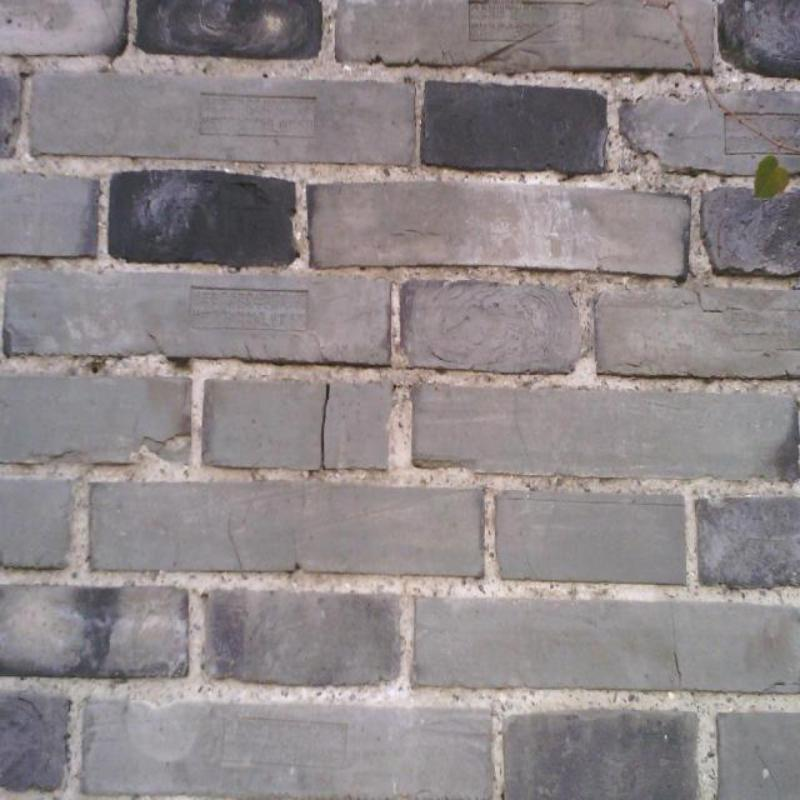crack: (669, 602, 682, 688), (228, 509, 244, 571), (320, 384, 330, 470), (18, 691, 44, 720), (695, 290, 722, 314)
